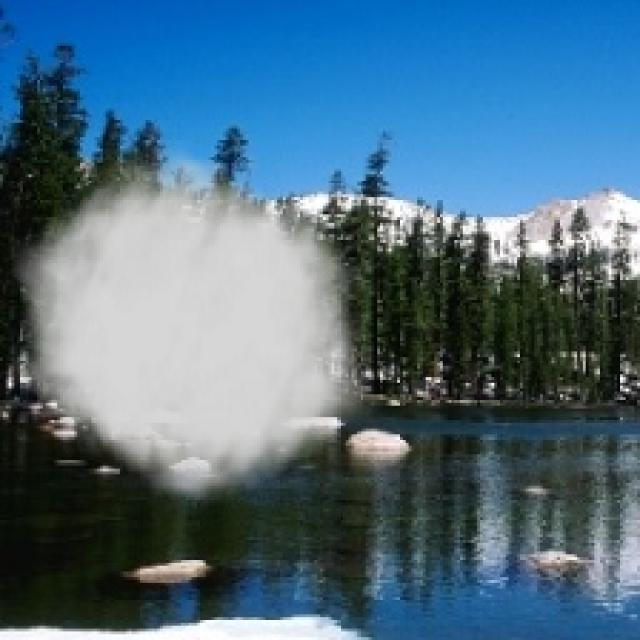smoke: (11, 140, 380, 514)
